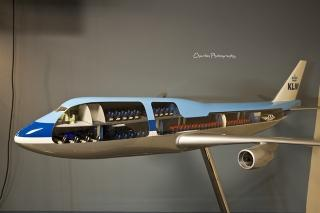airplane: (14, 59, 320, 171)
